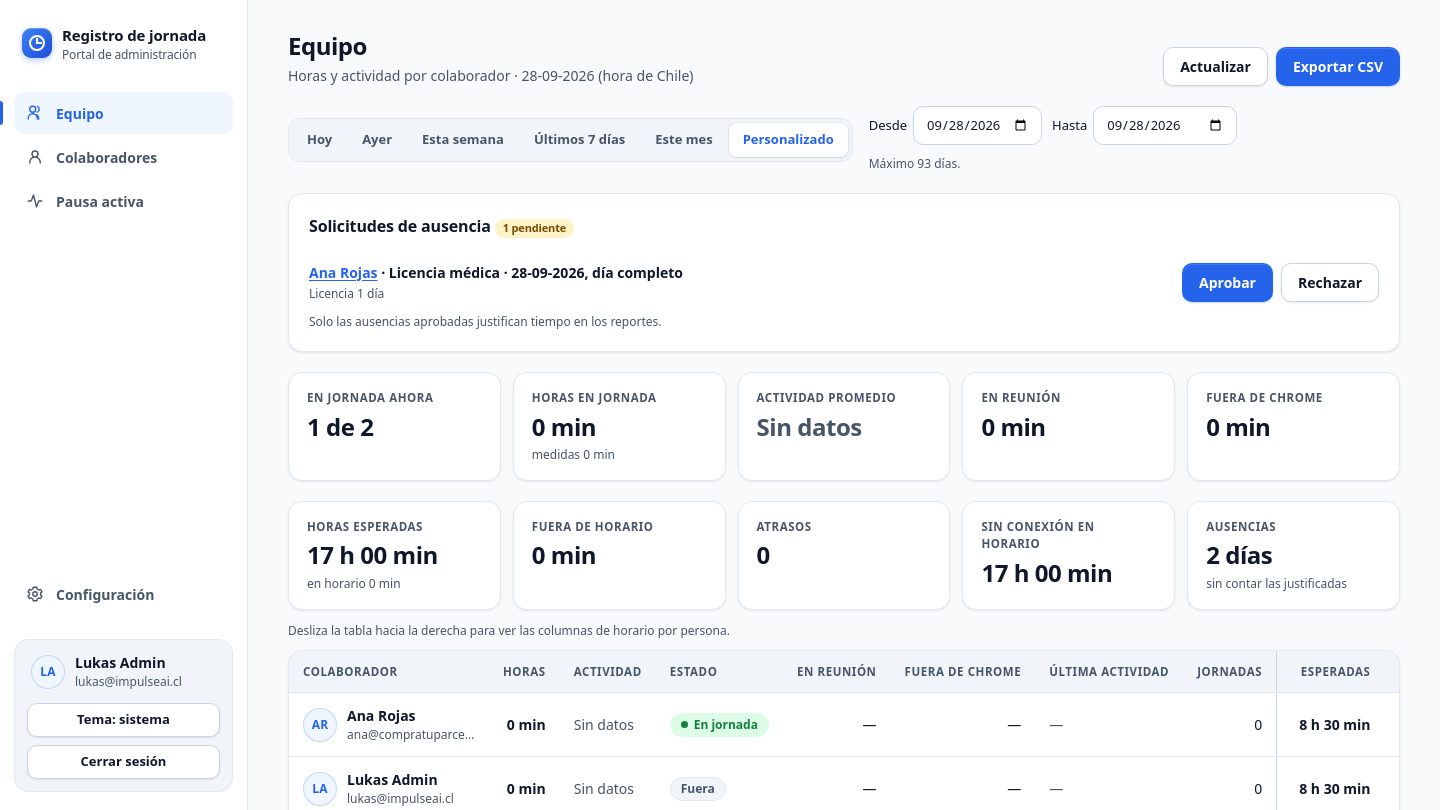
Scenario: Solicitudes desde la extensión › a pending request justifies nothing until an admin approves it on the team page
Expected: the list with test id "pending-requests" shows "Ana Rojas · Licencia médica · 28-09-2026, día completo", [309,252,1379,313]
Click the button "Aprobar" at (1228, 283), box [1182,263,1273,302]
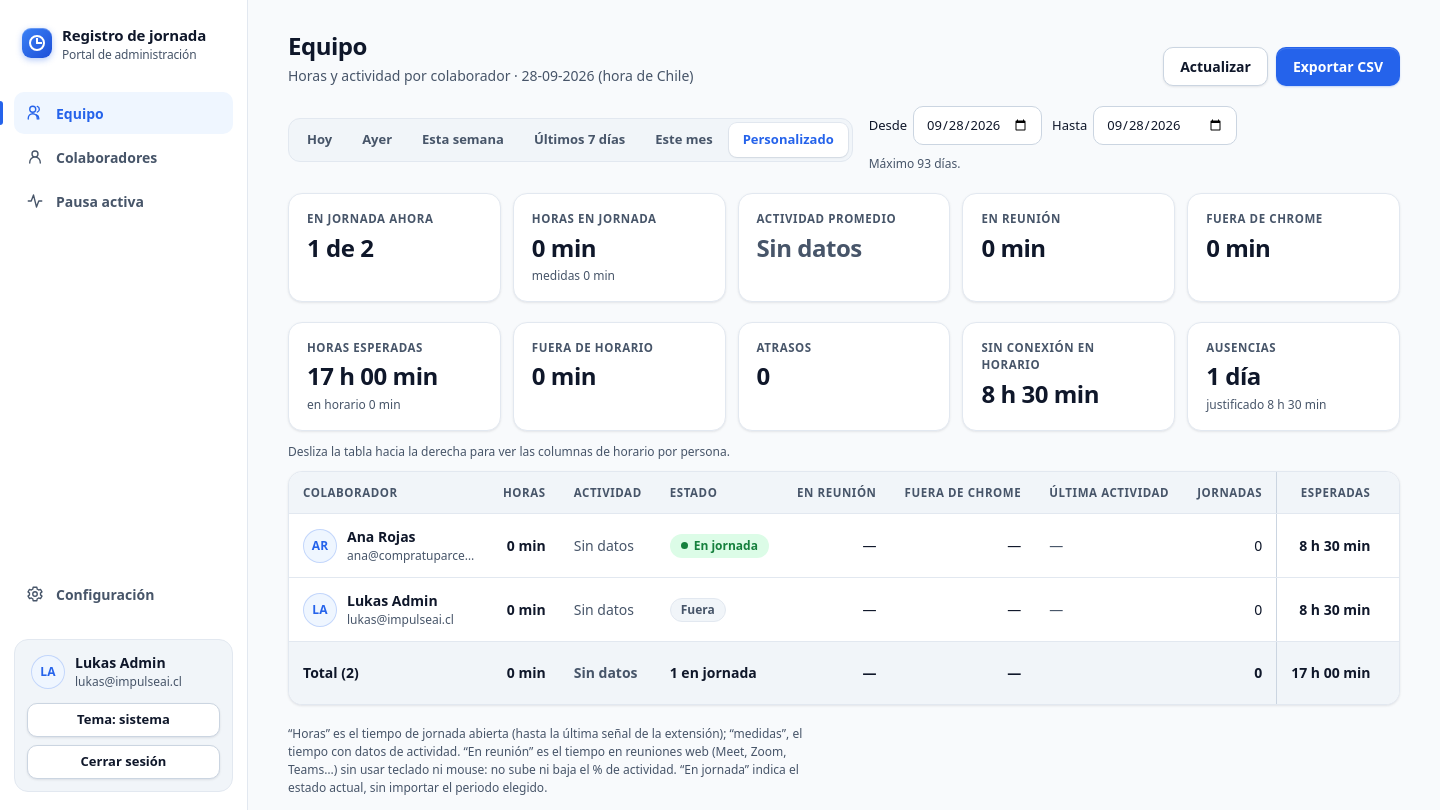
Expected: the list with test id "pending-requests" is gone
